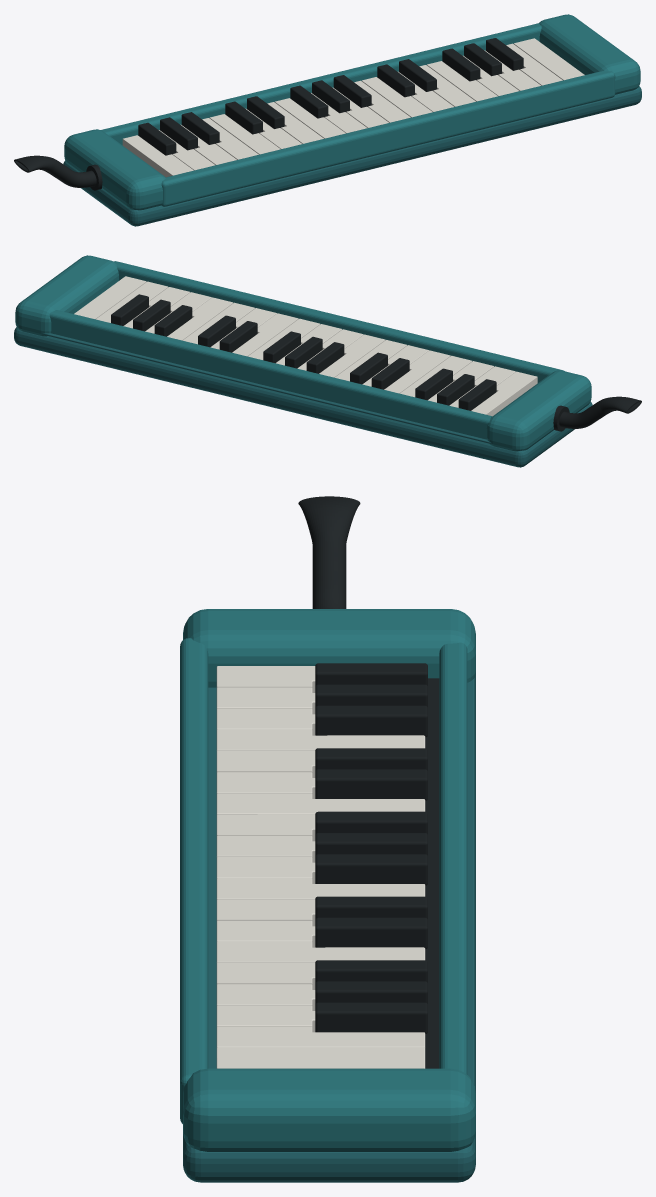
Rendered from A-NEW-20261026-MELODICA-001_LOD0_R1.glb.
3 views of the same model, one above another, from view 1: azimuth 30°, elevation 25°; view 2: azimuth 150°, elevation 25°; view 3: azimuth 270°, elevation 25° (orthographic). The views are drawn at different scales.
Visible parts, largest first — view 1: upper long rim, closed lower shell, thick rounded end shell, upper long rim.001, thick rounded end shell.001, hollow curved mouthpiece, white key midi 53, white key midi 84, white key midi 65, white key midi 72, white key midi 60, white key midi 77 (+26 smaller); view 2: upper long rim.001, closed lower shell, upper long rim, thick rounded end shell, thick rounded end shell.001, shell seam lip.001, hollow curved mouthpiece, white key midi 53, white key midi 84, white key midi 65, white key midi 72, white key midi 77 (+27 smaller); view 3: thick rounded end shell.001, thick rounded end shell, closed lower shell, upper long rim, upper long rim.001, keybed support plate, white key midi 84, hollow curved mouthpiece, white key midi 83, white key midi 59, white key midi 76, white key midi 64 (+28 smaller).
Part boxes in pixels (<box>): upper long rim: <box>161,71,615,206</box>; closed lower shell: <box>63,86,641,226</box>; thick rounded end shell: <box>64,129,165,210</box>; upper long rim.001: <box>100,23,541,145</box>; thick rounded end shell.001: <box>539,14,640,94</box>; hollow curved mouthpiece: <box>14,155,96,187</box>; white key midi 53: <box>122,135,193,177</box>; white key midi 84: <box>513,38,584,80</box>; white key midi 65: <box>274,98,345,138</box>; white key midi 72: <box>361,77,432,117</box>; white key midi 60: <box>209,114,280,154</box>; white key midi 77: <box>427,61,497,101</box>; upper long rim.001: <box>49,310,491,439</box>; closed lower shell: <box>14,327,592,467</box>; upper long rim: <box>114,261,564,382</box>; thick rounded end shell: <box>486,370,591,451</box>; thick rounded end shell.001: <box>15,255,118,336</box>; shell seam lip.001: <box>42,333,492,444</box>; hollow curved mouthpiece: <box>559,396,641,428</box>; white key midi 53: <box>471,371,537,416</box>; white key midi 84: <box>74,276,146,319</box>; white key midi 65: <box>319,334,385,377</box>; white key midi 72: <box>232,313,298,356</box>; white key midi 77: <box>167,297,233,340</box>; thick rounded end shell.001: <box>183,1068,475,1151</box>; thick rounded end shell: <box>183,609,475,687</box>; closed lower shell: <box>183,672,475,1182</box>; upper long rim: <box>180,638,208,1123</box>; upper long rim.001: <box>439,642,467,1074</box>; keybed support plate: <box>425,678,439,1068</box>; white key midi 84: <box>216,1047,425,1068</box>; hollow curved mouthpiece: <box>298,496,360,608</box>; white key midi 83: <box>216,1026,425,1048</box>; white key midi 59: <box>216,729,425,751</box>; white key midi 76: <box>216,941,425,963</box>; white key midi 64: <box>216,793,425,814</box>.
Bounding box in the file's own units: 0.4811 × 0.054 × 0.105.
